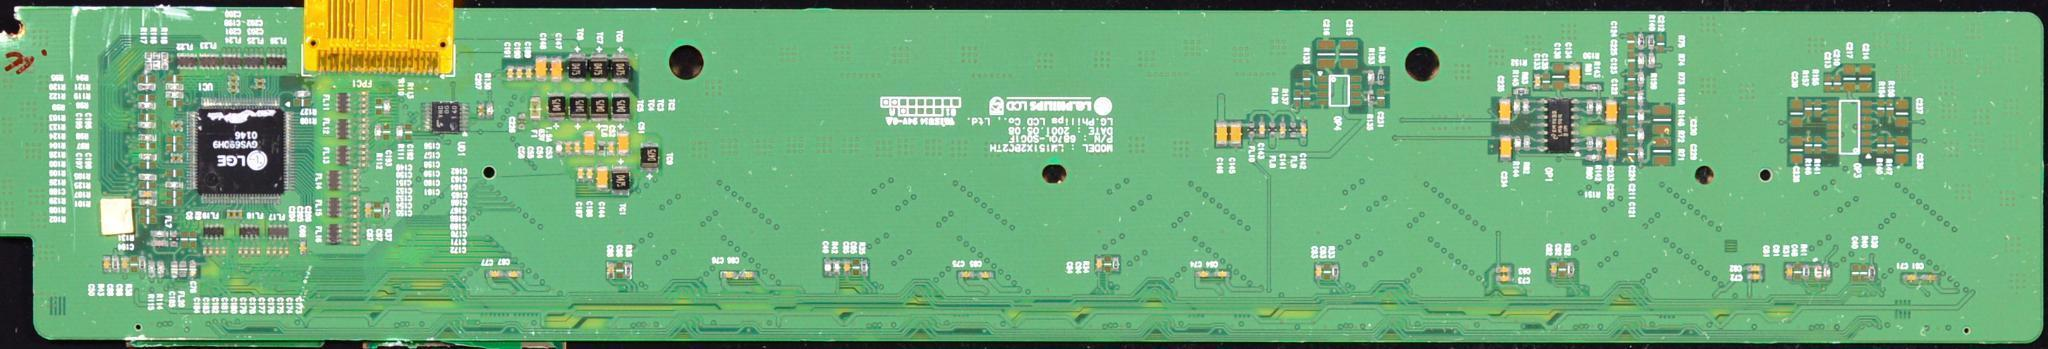Capacitor: (1788, 99, 1802, 129), (1788, 136, 1802, 164), (1895, 136, 1909, 164), (1894, 99, 1908, 126), (1843, 65, 1856, 92), (1859, 66, 1872, 93), (1552, 63, 1564, 89), (1605, 99, 1618, 123), (1215, 120, 1227, 146), (1499, 135, 1511, 160), (1568, 62, 1580, 86), (1230, 121, 1241, 147), (617, 129, 628, 155), (1500, 98, 1511, 123), (536, 55, 546, 82), (1605, 136, 1617, 158), (597, 166, 608, 190), (551, 58, 562, 81), (584, 130, 594, 155), (503, 268, 525, 278), (739, 269, 758, 280), (1316, 39, 1336, 49), (1653, 105, 1671, 115), (1653, 124, 1671, 134), (975, 270, 995, 279), (150, 238, 169, 247), (843, 257, 852, 276), (606, 260, 615, 279), (720, 269, 737, 279), (1652, 136, 1670, 145), (138, 189, 156, 198), (103, 254, 112, 272), (852, 258, 861, 276), (1340, 40, 1358, 49), (1653, 155, 1670, 164), (1340, 60, 1357, 69), (823, 257, 831, 276), (615, 260, 623, 279), (1823, 73, 1831, 91), (1833, 74, 1841, 92), (1627, 107, 1635, 125), (121, 255, 130, 271), (1212, 269, 1230, 277), (956, 270, 974, 278), (1746, 272, 1762, 281), (1316, 59, 1334, 67), (487, 269, 501, 279), (1376, 89, 1384, 106), (1922, 273, 1939, 281), (1324, 262, 1331, 281), (1626, 33, 1634, 49), (1258, 121, 1265, 139), (1628, 127, 1635, 145), (1315, 262, 1322, 280), (1627, 89, 1635, 104), (130, 257, 138, 272), (1903, 273, 1918, 281), (1543, 74, 1550, 91), (478, 101, 485, 118), (406, 123, 413, 140), (574, 139, 581, 156), (374, 202, 381, 219), (1095, 255, 1102, 272), (189, 259, 196, 276), (1657, 35, 1664, 52), (1300, 120, 1306, 139), (1628, 71, 1635, 87), (607, 140, 614, 156), (1628, 147, 1635, 163), (586, 166, 593, 182), (365, 202, 372, 218), (1496, 273, 1510, 281), (556, 139, 562, 157), (1745, 263, 1763, 269), (1559, 262, 1566, 277), (1496, 266, 1511, 273), (1814, 264, 1821, 279), (518, 112, 524, 129), (1279, 121, 1285, 138), (1195, 270, 1212, 276), (1627, 51, 1633, 68), (507, 66, 514, 80), (1534, 74, 1541, 88), (1550, 262, 1557, 276), (383, 123, 389, 139), (565, 140, 571, 156), (1104, 254, 1110, 270), (1786, 262, 1792, 278), (1794, 263, 1800, 279), (525, 66, 531, 81), (577, 165, 583, 180), (300, 239, 306, 254), (183, 230, 188, 247), (1853, 263, 1858, 279), (516, 67, 522, 80), (253, 84, 266, 90), (170, 152, 177, 163), (227, 75, 239, 81), (170, 120, 176, 132), (176, 120, 182, 132), (229, 87, 240, 93), (177, 153, 183, 164), (253, 78, 265, 83), (348, 168, 360, 173), (237, 210, 243, 220), (228, 83, 239, 88), (349, 234, 360, 239), (256, 246, 261, 257), (202, 246, 207, 257), (284, 246, 289, 257), (359, 128, 368, 134), (359, 143, 369, 148), (349, 174, 359, 179), (349, 195, 359, 200), (349, 221, 359, 226), (278, 247, 283, 257), (359, 161, 367, 167), (359, 102, 368, 107), (359, 116, 368, 121), (359, 149, 368, 154), (350, 201, 359, 206), (232, 209, 237, 218), (249, 247, 254, 256), (238, 247, 243, 256), (349, 229, 360, 233), (272, 246, 276, 257), (359, 90, 367, 95), (359, 96, 367, 101), (359, 109, 367, 114), (359, 135, 367, 140), (359, 155, 367, 160), (350, 181, 360, 185), (350, 187, 360, 191), (350, 207, 358, 212), (351, 213, 359, 218), (349, 241, 359, 245), (221, 247, 225, 257), (266, 247, 270, 257), (244, 248, 249, 256), (226, 209, 230, 218), (214, 246, 218, 255), (208, 247, 212, 256), (359, 123, 367, 127)
Resistor: (1813, 136, 1822, 155), (152, 52, 161, 71), (1804, 96, 1812, 117), (1814, 98, 1822, 119), (1886, 136, 1895, 154), (147, 259, 156, 277), (1804, 135, 1812, 155), (144, 51, 152, 71), (111, 255, 120, 272), (1876, 136, 1884, 155), (138, 153, 157, 161), (161, 52, 169, 71), (165, 83, 183, 91), (294, 98, 312, 106), (166, 99, 184, 107), (1876, 99, 1884, 117), (139, 216, 157, 224), (138, 255, 146, 273), (832, 258, 840, 276), (169, 260, 177, 278), (1302, 89, 1310, 106), (1522, 97, 1530, 114), (139, 113, 156, 121), (138, 161, 157, 168), (157, 259, 164, 278), (1585, 83, 1601, 91), (164, 75, 182, 82), (137, 75, 155, 82), (165, 90, 183, 97), (138, 121, 156, 128), (138, 133, 156, 140), (1523, 135, 1530, 153), (165, 144, 183, 151), (139, 173, 157, 180), (139, 181, 157, 188), (165, 198, 183, 205), (138, 198, 156, 205), (139, 208, 157, 215), (860, 258, 867, 276), (625, 260, 632, 278), (374, 98, 382, 113), (382, 98, 390, 113), (1303, 71, 1310, 88), (295, 89, 312, 96), (138, 93, 155, 100), (166, 170, 183, 177), (1332, 264, 1339, 281), (137, 83, 156, 89), (1377, 69, 1384, 85), (1513, 87, 1529, 94), (166, 135, 182, 142), (1514, 136, 1521, 152), (1586, 154, 1602, 161), (383, 203, 390, 219), (1868, 264, 1875, 280), (1647, 53, 1655, 67), (137, 102, 155, 108), (1887, 99, 1893, 117), (1367, 70, 1374, 85), (1637, 90, 1644, 105), (1587, 98, 1594, 113), (1596, 99, 1603, 114), (396, 124, 403, 139), (167, 190, 182, 197), (1824, 264, 1831, 279), (1648, 35, 1655, 50), (1367, 89, 1373, 106), (139, 142, 156, 148), (1638, 147, 1644, 164), (166, 181, 183, 187), (151, 230, 168, 236), (1638, 33, 1644, 50), (1294, 90, 1300, 106), (375, 123, 381, 139), (1637, 127, 1643, 143), (1586, 134, 1592, 150), (190, 232, 196, 248), (1860, 264, 1866, 280), (1638, 110, 1645, 123), (1637, 71, 1643, 86), (1112, 256, 1118, 271), (1803, 264, 1809, 279), (1513, 100, 1519, 114), (1595, 136, 1601, 150), (1638, 52, 1644, 66)
